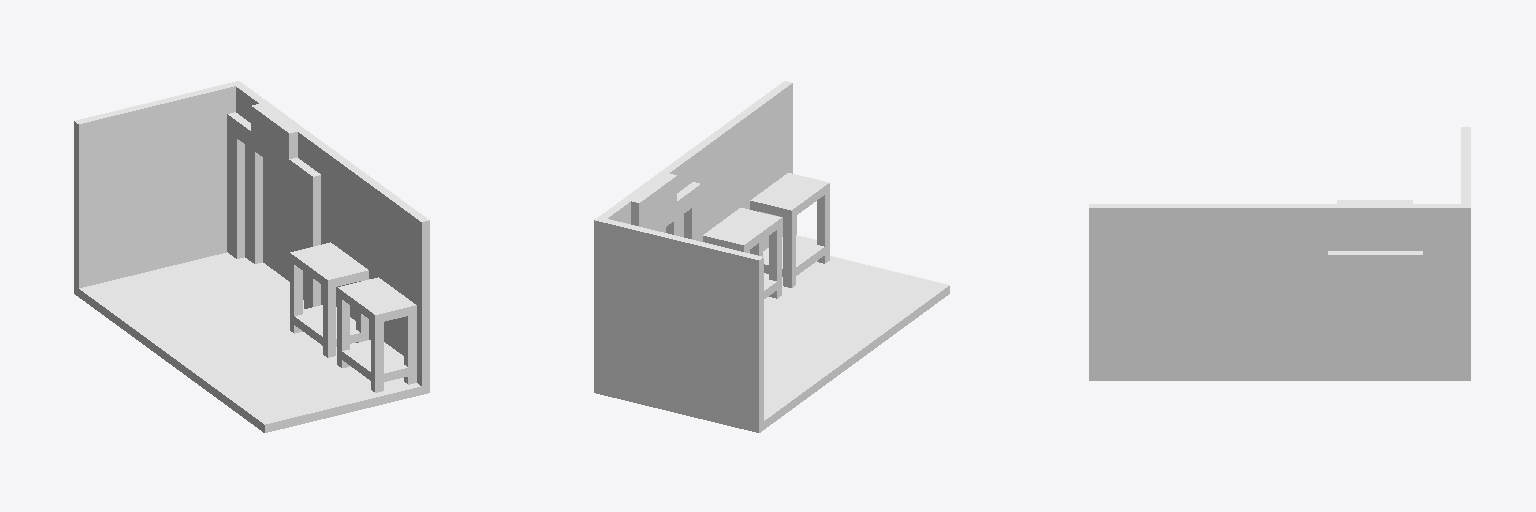
File: level_three-0.obj
The picture shows the model from 3 angles: view 1: azimuth 30°, elevation 25°; view 2: azimuth 150°, elevation 25°; view 3: azimuth 270°, elevation 25°; orthographic projection.
Parts seen in each view (by area): view 1: level_three-0; view 2: level_three-0; view 3: level_three-0.
Part boxes in pixels (bbox=[...]): level_three-0: bbox=[74, 81, 429, 432]; level_three-0: bbox=[594, 81, 949, 432]; level_three-0: bbox=[1089, 127, 1470, 380].
Size of the model in its own units: 21 by 20 by 40.